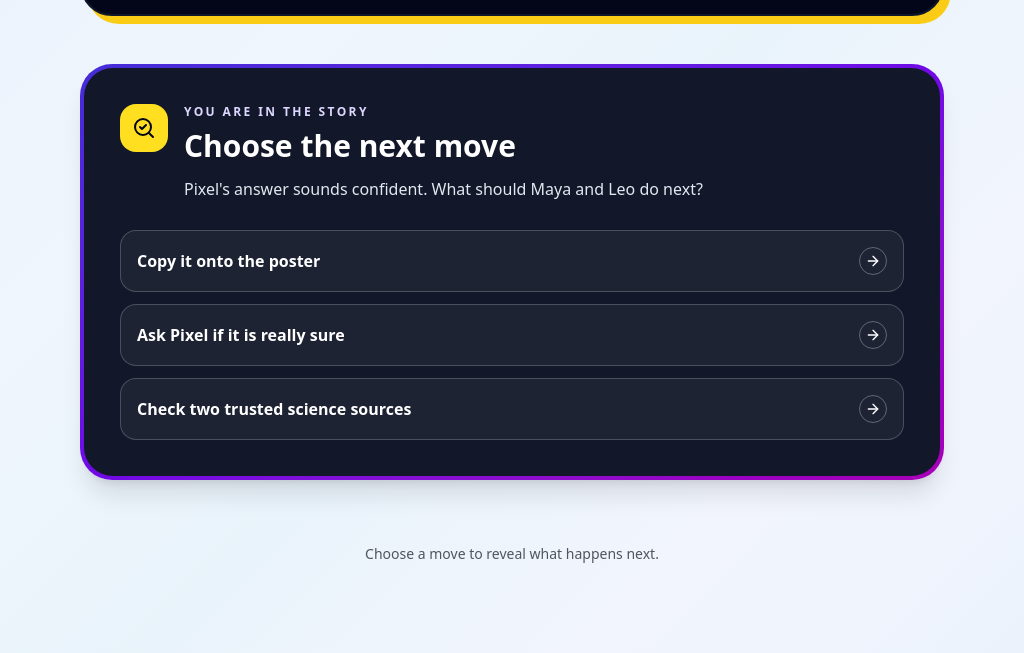
Test case: StoryReader › reveals the fact-checking lesson after the child makes a choice
The image size is (1024, 653).
(page scrolled)
Click the button "Check two trusted science sources" at (274, 409), box [120, 378, 904, 440]
(page scrolled)
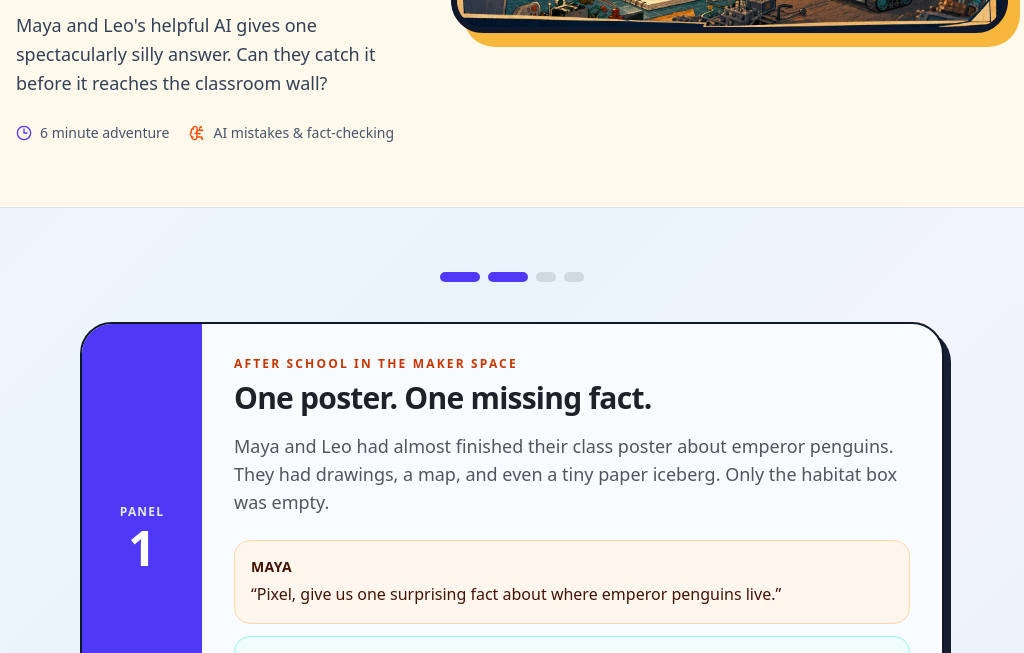
Expected: the progress indicator has attribute aria-valuenow="50", [440, 272, 584, 282]
